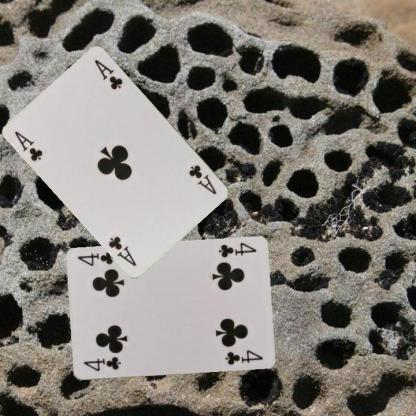4c: (81, 354, 122, 373), (216, 240, 257, 259)
Ac: (12, 128, 45, 163), (186, 162, 218, 196)
